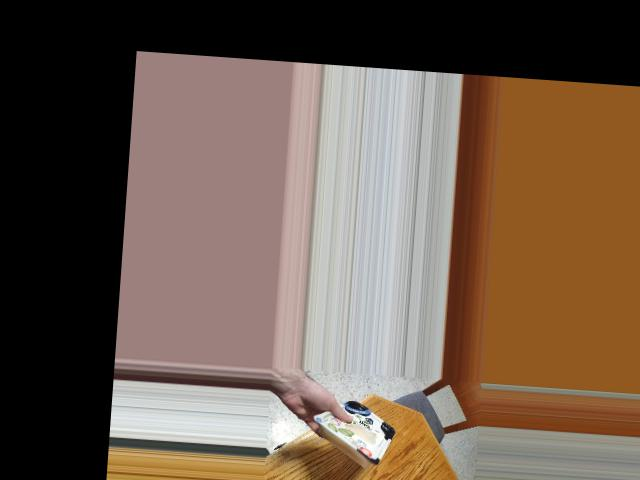cheese: (315, 396, 402, 480)
